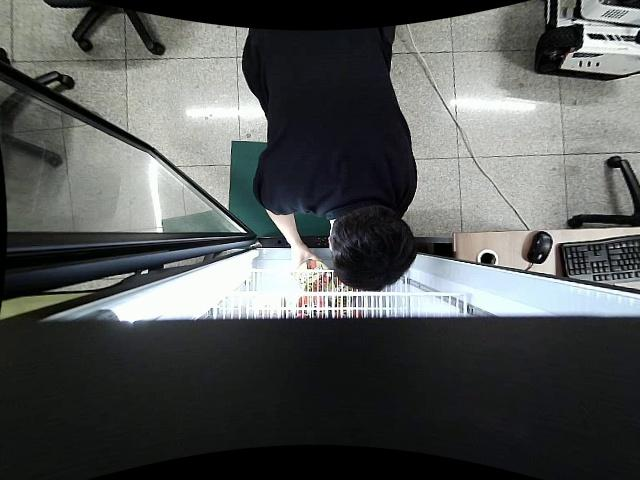03_chapagetti_L: (298, 258, 330, 291)
